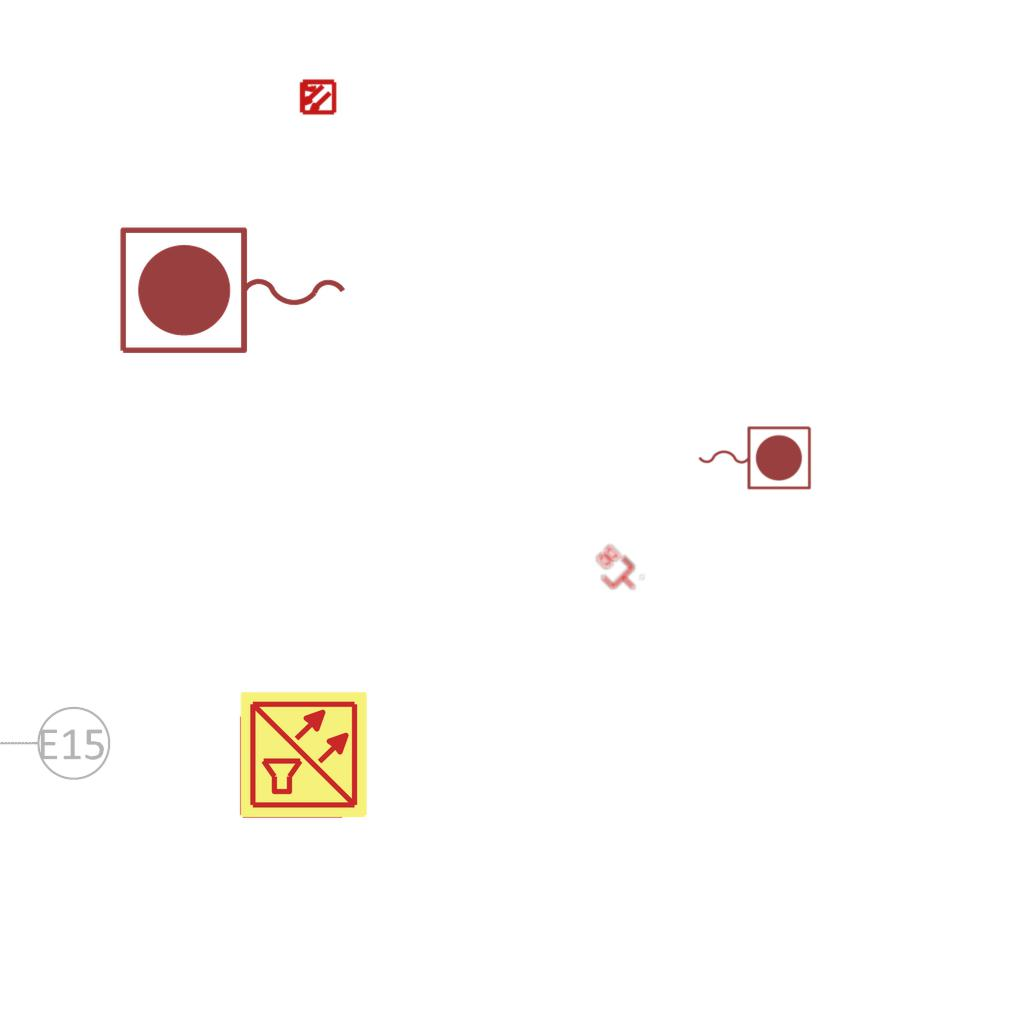Datenanschluss_zweifach: (585, 541, 647, 602)
OKW_Multisensormelder_(Kombination_optischer_Rauch-Kahlenmonoxid_Waerme-Melder): (238, 689, 370, 821)
OT_Multisensormelder_(Kombination_RMO_WMD): (289, 69, 345, 125)
Zugtaster: (112, 220, 356, 364), (693, 421, 815, 493)
